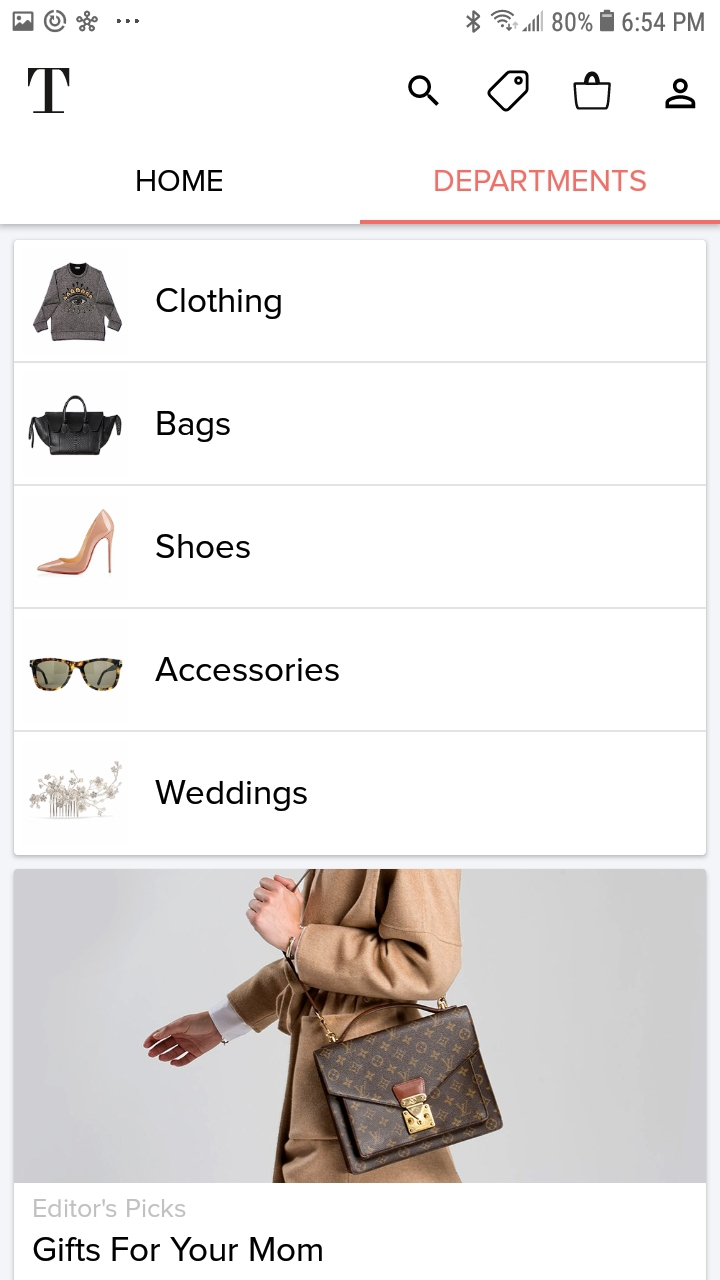Icon: (487, 70, 530, 113), (573, 72, 612, 112), (408, 76, 440, 108), (664, 78, 696, 110)
Image: (13, 868, 707, 1183), (33, 262, 123, 342), (28, 395, 123, 456), (29, 760, 124, 820), (38, 509, 116, 576), (29, 658, 124, 692)
Text: (33, 1236, 323, 1262), (155, 779, 308, 812), (435, 169, 647, 192), (155, 656, 340, 682), (156, 288, 282, 321), (34, 1198, 187, 1218), (156, 533, 251, 559), (157, 410, 231, 443), (28, 68, 71, 115), (136, 170, 223, 193)
UpperTaskBar: (1, 1, 720, 35)
